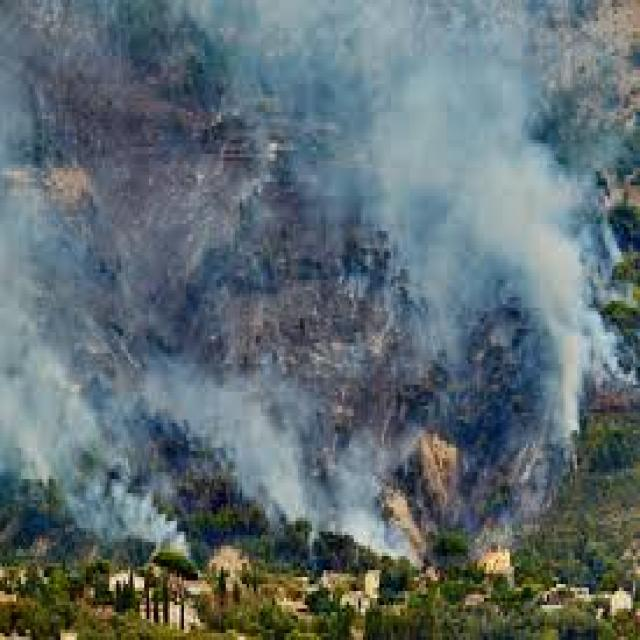Forest Fire: (103, 34, 504, 550)
